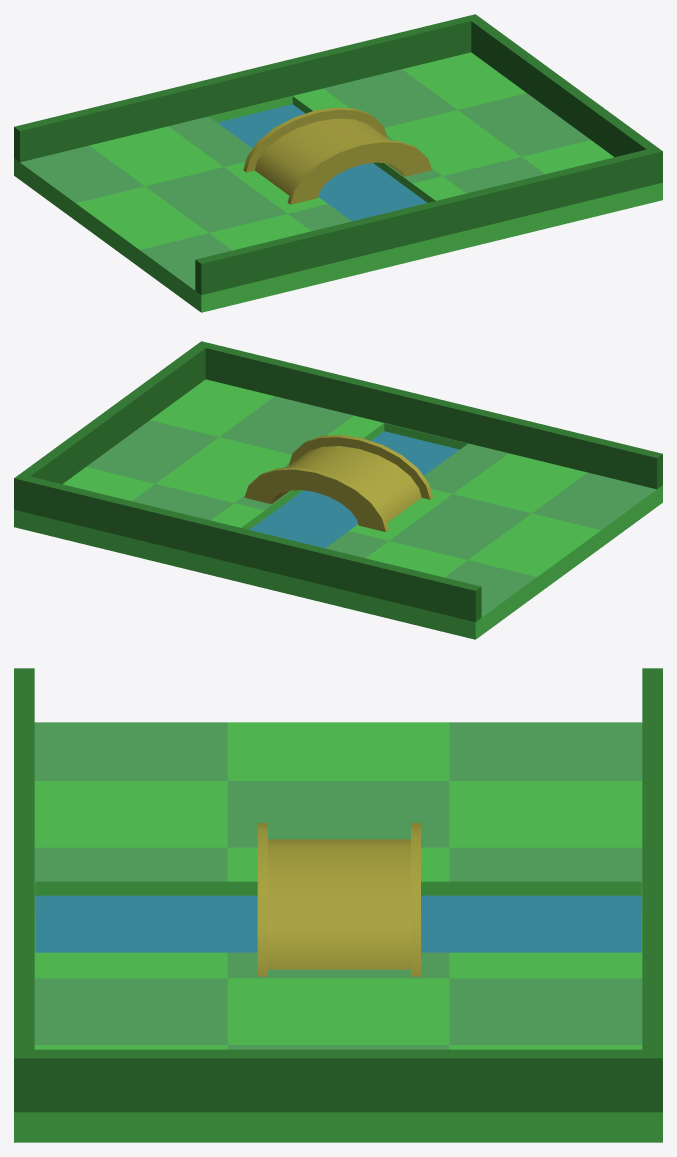
The model's file is bridge.fbx.
3 views of the same model, one above another, from view 1: azimuth 30°, elevation 25°; view 2: azimuth 150°, elevation 25°; view 3: azimuth 270°, elevation 25° (orthographic). The views are drawn at different scales.
Visible parts, largest first — view 1: pasted__pCube7, pPipe1, pPlane1; view 2: pasted__pCube7, pPipe1, pPlane1; view 3: pasted__pCube7, pPlane1, pPipe1.
Part boxes in pixels (x1,y1,x2,y2): pasted__pCube7: (14,14,662,312); pPipe1: (243,107,431,204); pPlane1: (217,104,427,221); pasted__pCube7: (14,341,662,639); pPipe1: (244,435,432,531); pPlane1: (249,431,459,548); pasted__pCube7: (14,668,662,1142); pPlane1: (35,895,641,952); pPipe1: (257,823,420,976).
Bounding box in the file's own units: 22.4 × 2.77 × 15.75.
